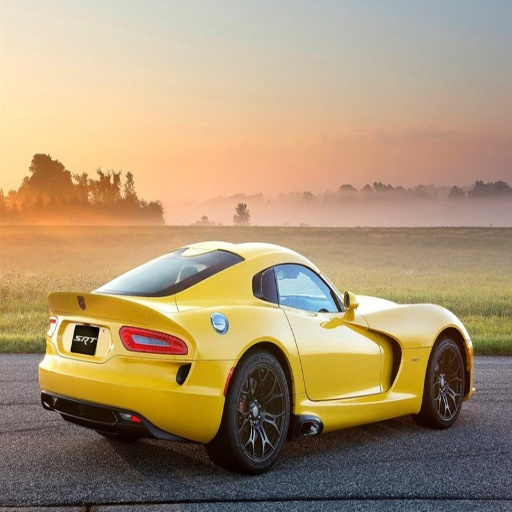back_bumper: (38, 352, 234, 439)
back_right_door: (272, 261, 317, 359)
tailgate: (54, 290, 178, 360)
trunk: (52, 298, 197, 364)
